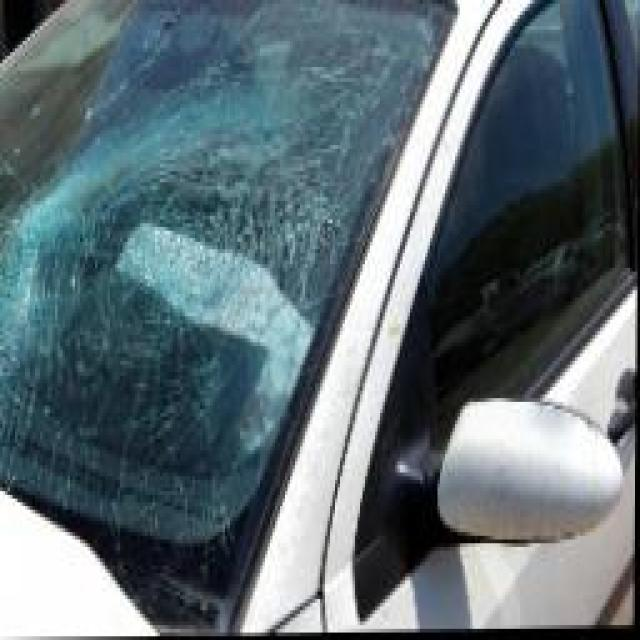Windshield: (0, 0, 447, 636)
